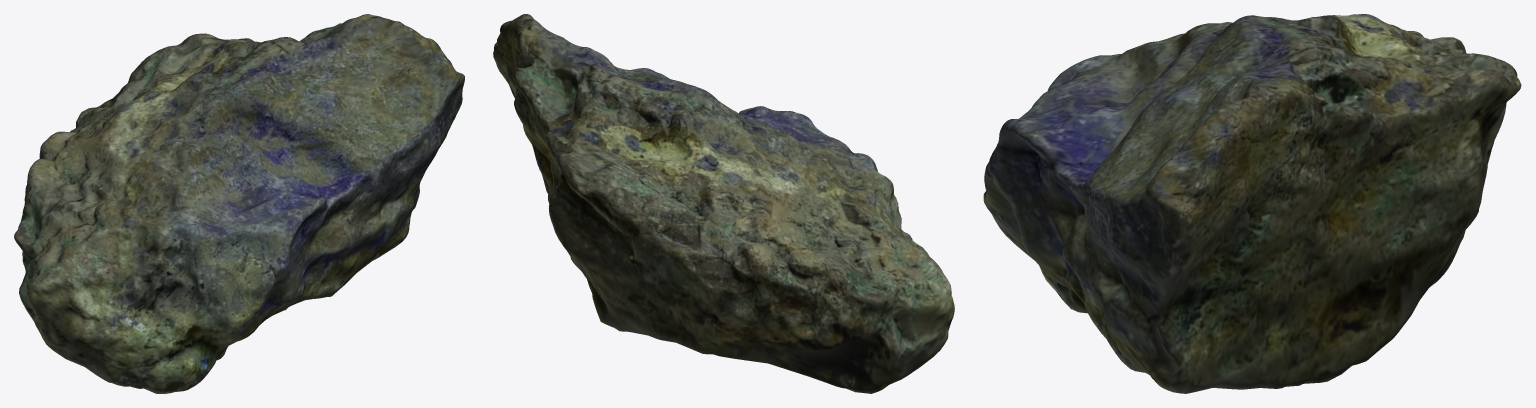
The picture shows the model from 3 angles, left to right: view 1: azimuth 30°, elevation 25°; view 2: azimuth 150°, elevation 25°; view 3: azimuth 270°, elevation 25°; orthographic projection. The views are drawn at different scales.
Bounding box in the file's own units: 0.5661 × 0.3402 × 0.3993.
Materials: 1 (1 with a texture image).
